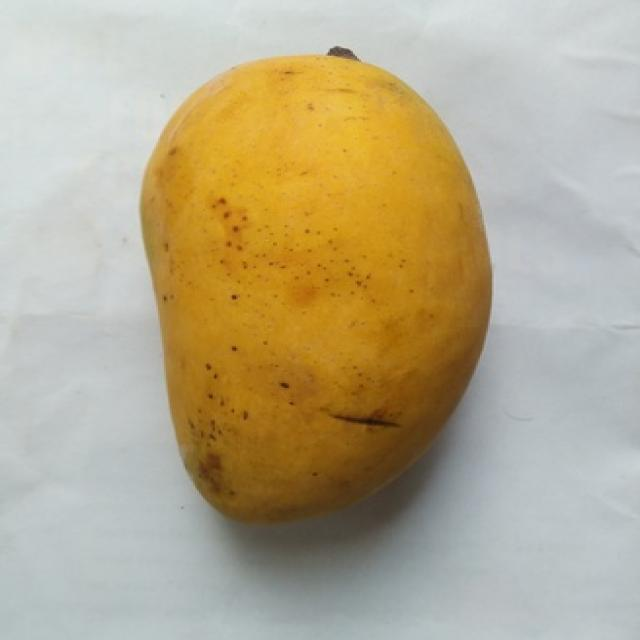Mango: (142, 53, 490, 520)
